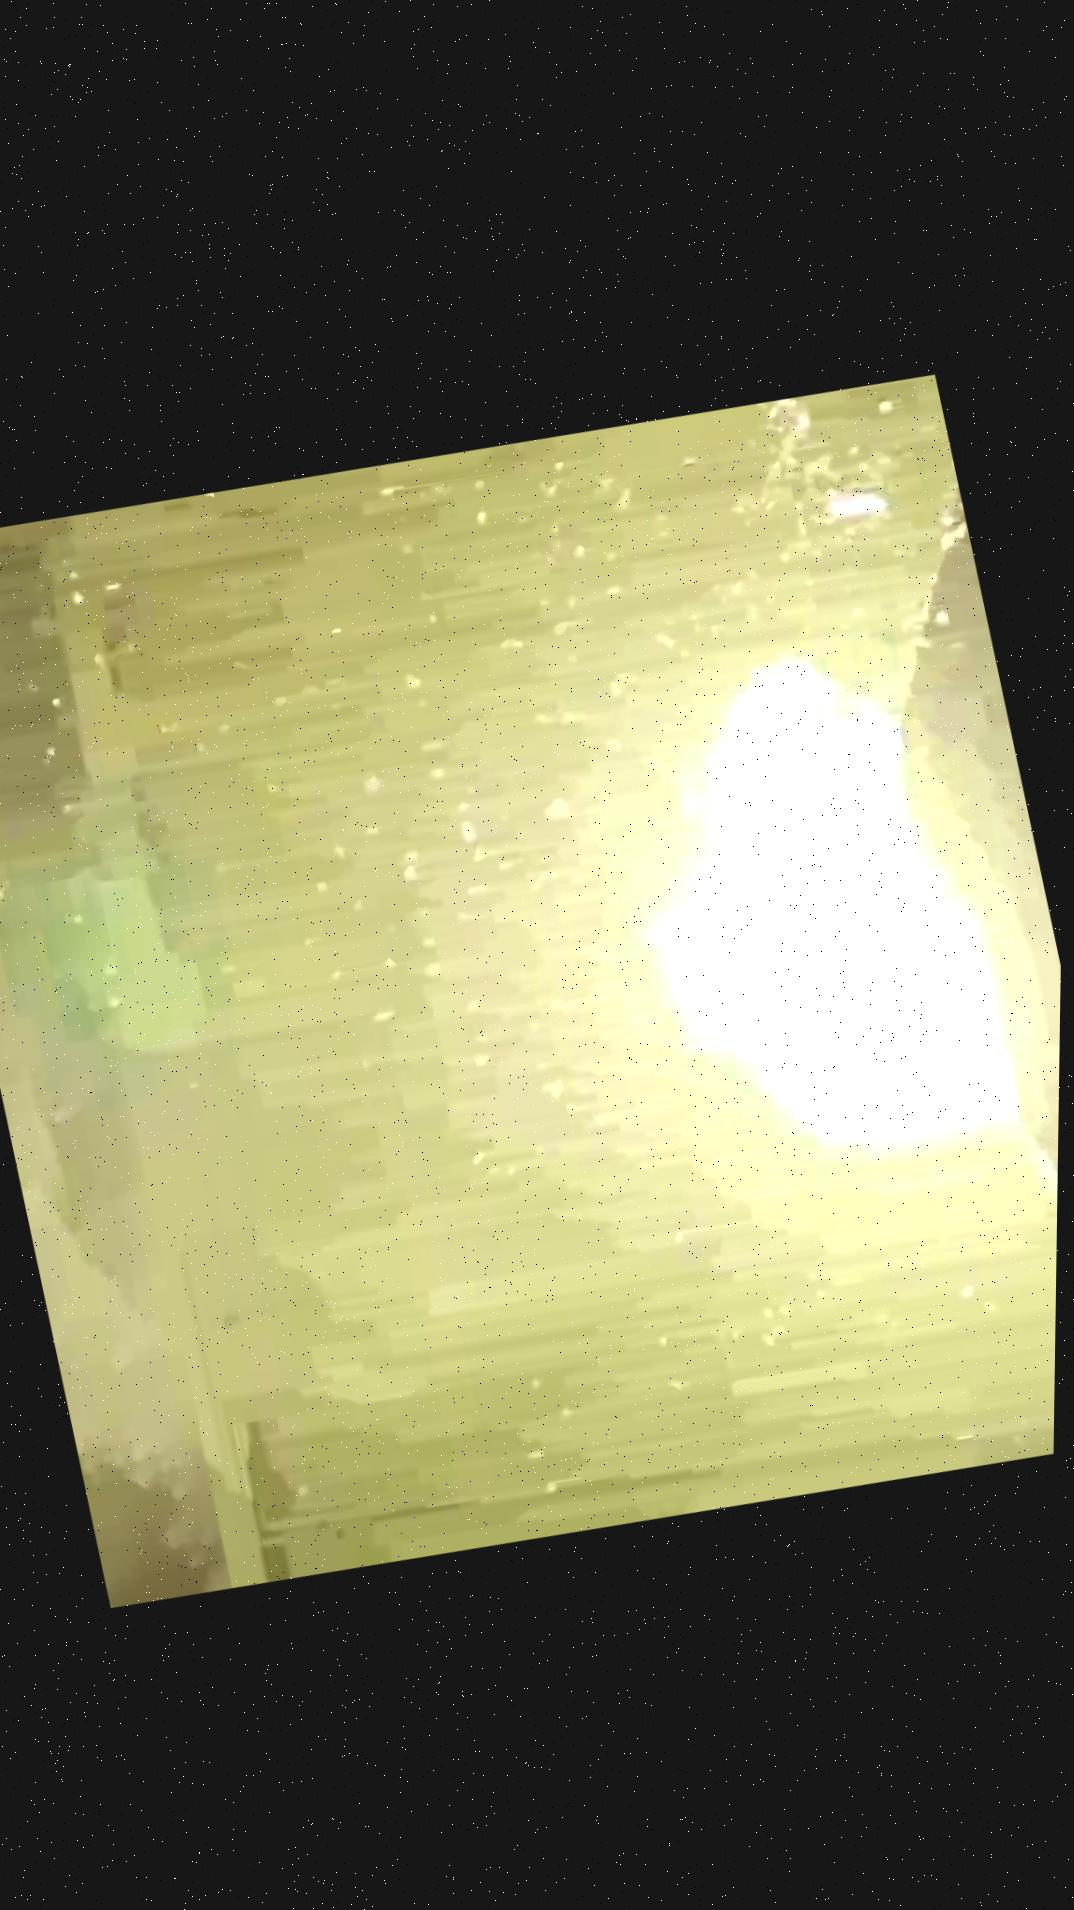fire: (207, 153, 1067, 1680)
